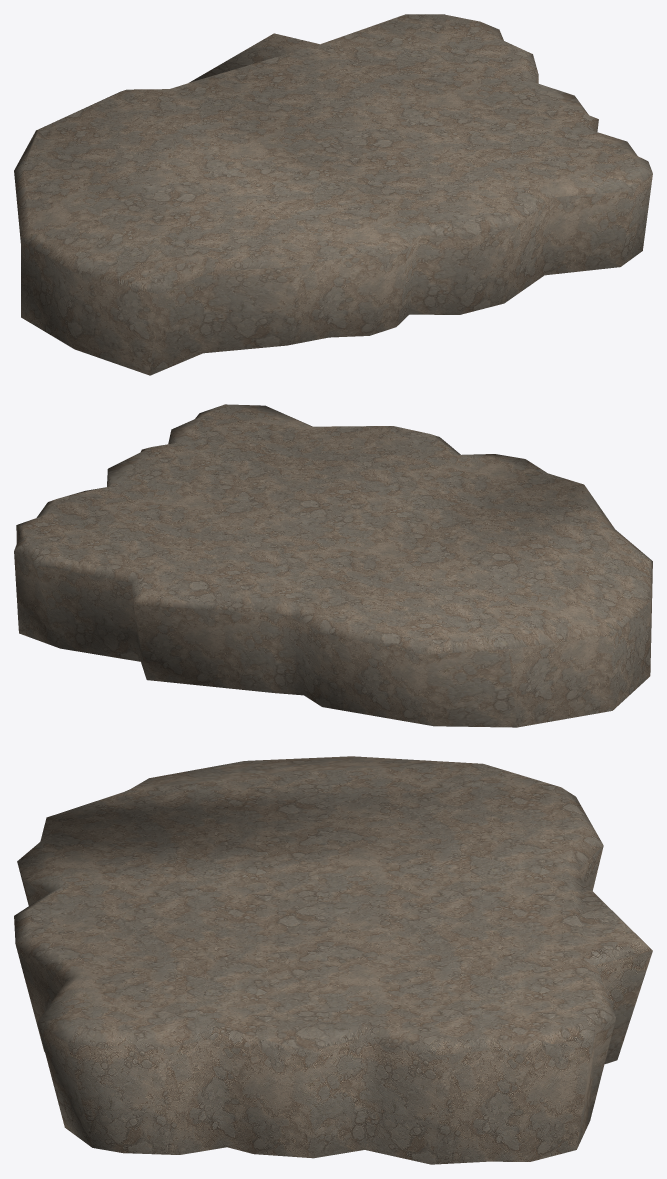
Rendered from dimian01.FBX.
3 renders of one model, top to bottom at view 1: azimuth 30°, elevation 25°; view 2: azimuth 150°, elevation 25°; view 3: azimuth 270°, elevation 25°, orthographic. The views are drawn at different scales.
Parts seen in each view (by area): view 1: dimian01; view 2: dimian01; view 3: dimian01.
Boxes of the visible parts, x1,y1,x2,y2 form: dimian01: [14, 14, 652, 375]; dimian01: [14, 404, 652, 727]; dimian01: [14, 756, 652, 1164].
Size of the model in its own units: 555 by 120 by 450.
